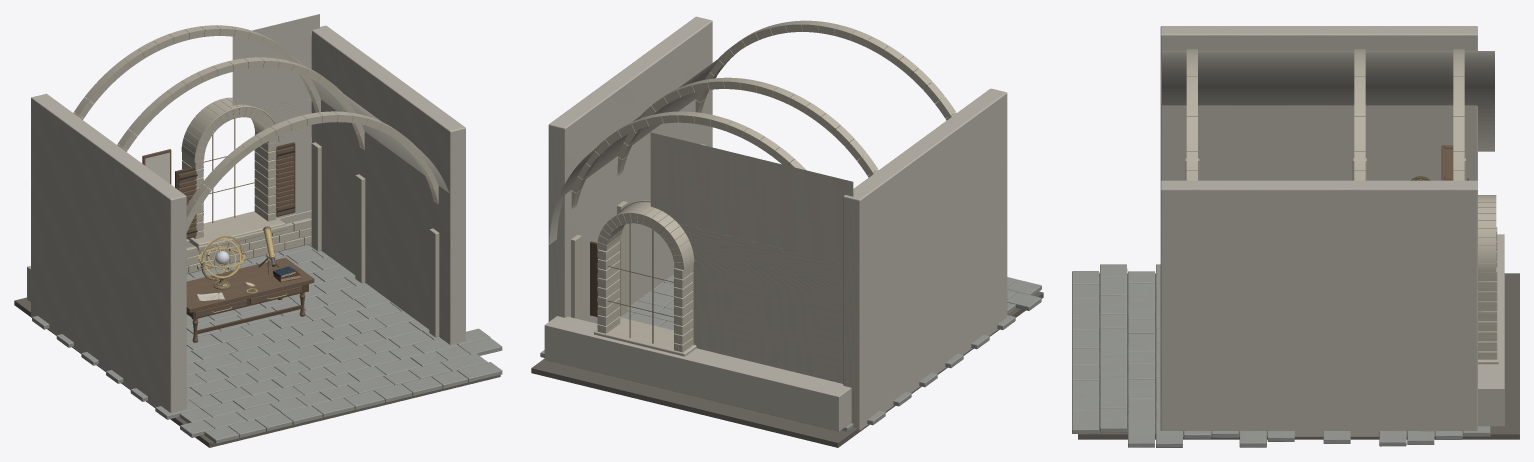
The model's file is observatory_interior_source.glb.
3 renders of one model, left to right at view 1: azimuth 30°, elevation 25°; view 2: azimuth 150°, elevation 25°; view 3: azimuth 270°, elevation 25°, orthographic. The views are drawn at different scales.
Visible parts, largest first — view 1: West_wall, East_wall, Continuous_arch_plaster_1, Vault_lime_plaster_shell, Deep_window_sill, Mortar_floor, Walnut_worktop_board_0, Rib_support_pier_2_1, Rib_support_pier_1_1, Rib_support_pier_0_1, Walnut_worktop_board_3, Walnut_worktop_board_2 (+11 smaller); view 2: West_wall, Continuous_arch_plaster_-1, East_wall, Lower_backing_wall, Mortar_floor, Vault_lime_plaster_shell, Deep_window_sill, Rib_support_pier_2_1, Rib_support_pier_1_1, Opened_shutter_frame_1; view 3: East_wall, West_wall, Vault_lime_plaster_shell, Mortar_floor, Lower_backing_wall, Floor_flagstone_1_9, Floor_flagstone_0_9, Floor_flagstone_2_10, Floor_flagstone_1_6, Floor_flagstone_1_2, Floor_flagstone_2_7, Floor_flagstone_2_2 (+13 smaller).
Part boxes in pixels (<box>): West_wall: <box>31,93,186,412</box>; East_wall: <box>311,25,465,344</box>; Continuous_arch_plaster_1: <box>232,14,319,218</box>; Vault_lime_plaster_shell: <box>289,54,449,193</box>; Deep_window_sill: <box>188,211,285,247</box>; Mortar_floor: <box>14,297,500,447</box>; Walnut_worktop_board_0: <box>186,274,311,312</box>; Rib_support_pier_2_1: <box>311,142,321,251</box>; Rib_support_pier_1_1: <box>355,174,365,283</box>; Rib_support_pier_0_1: <box>429,228,439,337</box>; Walnut_worktop_board_3: <box>186,258,288,288</box>; Walnut_worktop_board_2: <box>186,263,295,295</box>; West_wall: <box>843,88,1007,430</box>; Continuous_arch_plaster_-1: <box>650,132,853,383</box>; East_wall: <box>548,16,712,323</box>; Lower_backing_wall: <box>544,316,851,431</box>; Mortar_floor: <box>531,291,1043,447</box>; Vault_lime_plaster_shell: <box>549,50,729,244</box>; Deep_window_sill: <box>594,317,696,356</box>; Rib_support_pier_2_1: <box>571,235,581,319</box>; Rib_support_pier_1_1: <box>617,201,627,315</box>; Opened_shutter_frame_1: <box>590,241,597,316</box>; East_wall: <box>1160,180,1477,437</box>; West_wall: <box>1160,26,1477,180</box>; Vault_lime_plaster_shell: <box>1162,51,1494,151</box>; Mortar_floor: <box>1078,273,1519,439</box>; Lower_backing_wall: <box>1478,234,1504,426</box>; Floor_flagstone_1_9: <box>1100,408,1127,432</box>; Floor_flagstone_0_9: <box>1072,411,1099,433</box>; Floor_flagstone_2_10: <box>1128,425,1155,447</box>; Floor_flagstone_1_6: <box>1100,357,1127,377</box>; Floor_flagstone_1_2: <box>1100,295,1127,315</box>; Floor_flagstone_2_7: <box>1128,379,1154,398</box>; Floor_flagstone_2_2: <box>1128,300,1154,319</box>.
Size of the model in its own units: 8.34 by 6.36 by 8.82.
